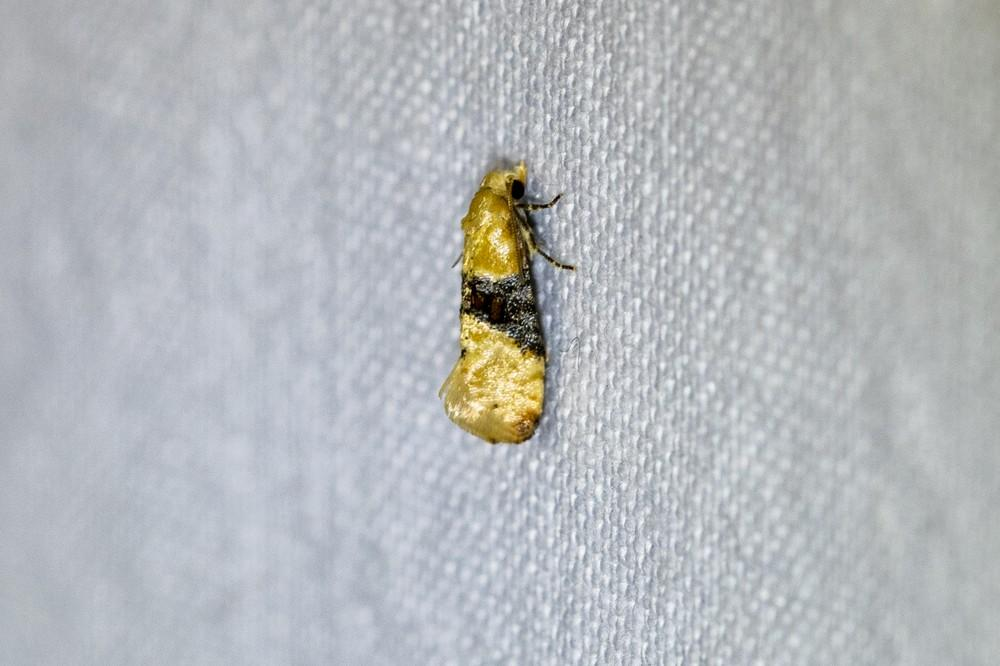Eupoecilia Ambiguella: (435, 158, 578, 447)
